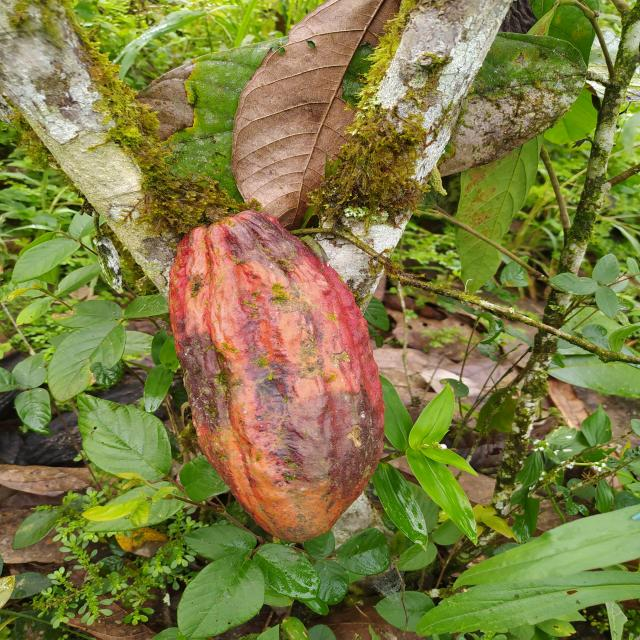Fitoftora: (167, 208, 387, 546)
